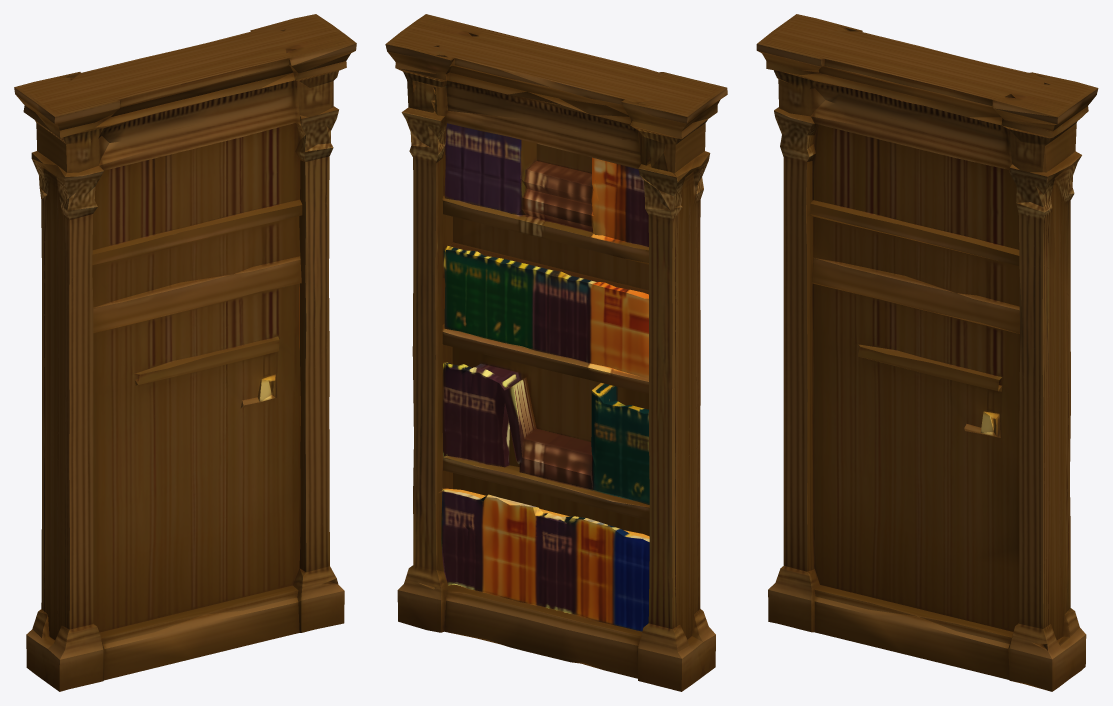
File: LibraryBookcase.glb
3 views of the same model, side by side, from view 1: azimuth 30°, elevation 25°; view 2: azimuth 150°, elevation 25°; view 3: azimuth 330°, elevation 25° (orthographic).
Visible parts, largest first — view 1: geometry_0; view 2: geometry_0; view 3: geometry_0.
Part boxes in pixels (box(x1,y1,x2,y2)): geometry_0: box(14, 14, 356, 691); geometry_0: box(385, 14, 727, 691); geometry_0: box(756, 14, 1098, 691).
Bounding box in the file's own units: 1.2 × 2.2 × 0.28.
1 material, 1 textured.
